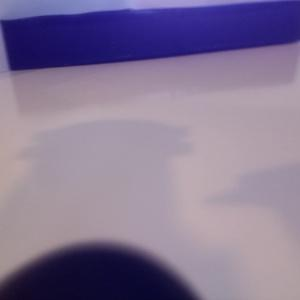zone: (1, 1, 300, 71)
